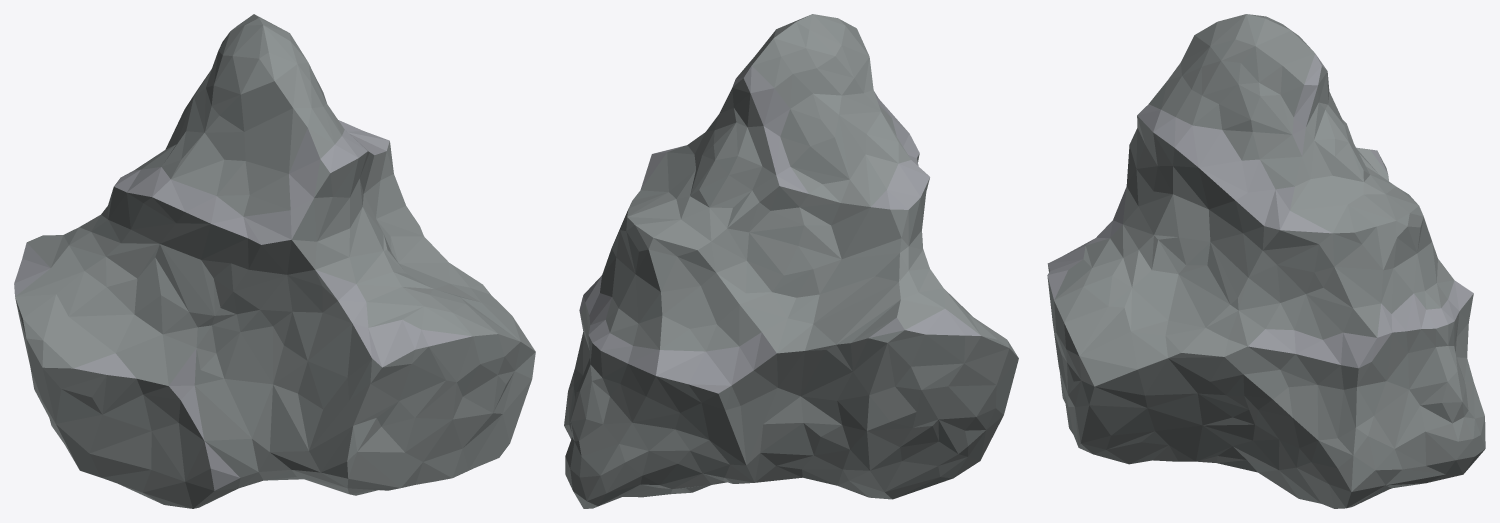
The model's file is mesh_rock_big_01.fbx.
3 renders of one model, left to right at view 1: azimuth 30°, elevation 25°; view 2: azimuth 150°, elevation 25°; view 3: azimuth 270°, elevation 25°, orthographic. The views are drawn at different scales.
Visible parts, largest first — view 1: mesh_rock_big_01_LOD0; view 2: mesh_rock_big_01_LOD0; view 3: mesh_rock_big_01_LOD0.
Part boxes in pixels (x1,y1,x2,y2): mesh_rock_big_01_LOD0: (14, 14, 535, 508); mesh_rock_big_01_LOD0: (564, 14, 1018, 508); mesh_rock_big_01_LOD0: (1047, 14, 1485, 508).
Size of what is drawn, in the model's own units: 2.31 by 2.52 by 2.3.
